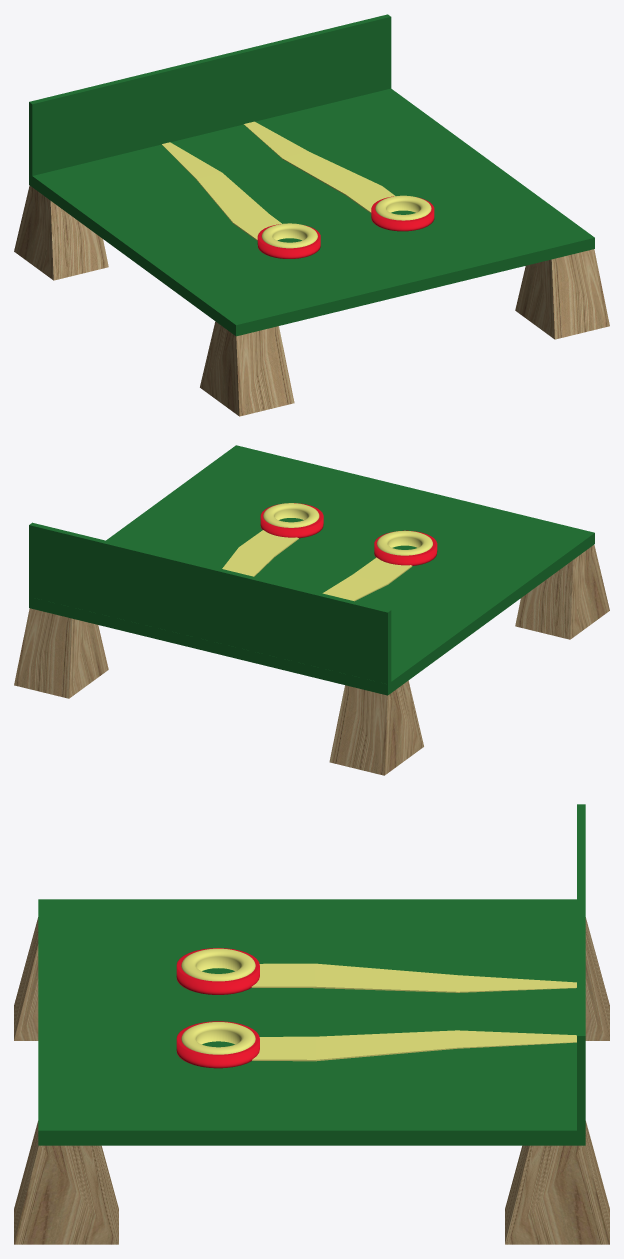
Rendered from CapacitorPlata.gltf.
3 views of the same model, one above another, from view 1: azimuth 30°, elevation 25°; view 2: azimuth 150°, elevation 25°; view 3: azimuth 270°, elevation 25° (orthographic). The views are drawn at different scales.
Visible parts, largest first — view 1: Основа контакта 2.002; view 2: Основа контакта 2.002; view 3: Основа контакта 2.002.
Boxes of the visible parts, x1,y1,x2,y2 form: Основа контакта 2.002: (14, 14, 609, 416); Основа контакта 2.002: (14, 445, 609, 775); Основа контакта 2.002: (14, 804, 609, 1244).
Bounding box in the file's own units: 1.17 × 0.4695 × 1.24.
Materials: 4 (1 with a texture image).
